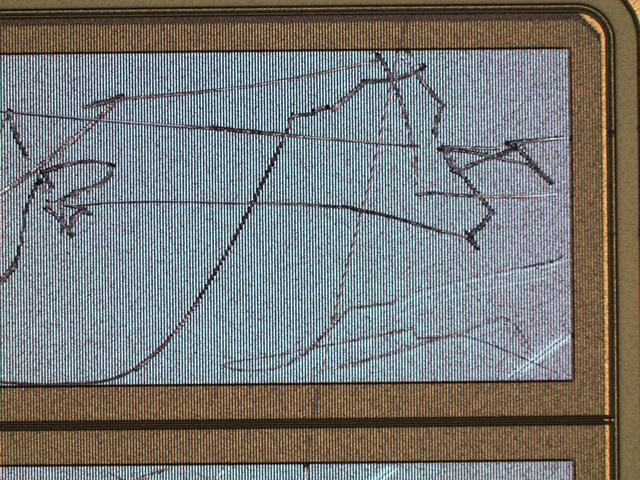SCRATCH: (1, 5, 621, 480)
